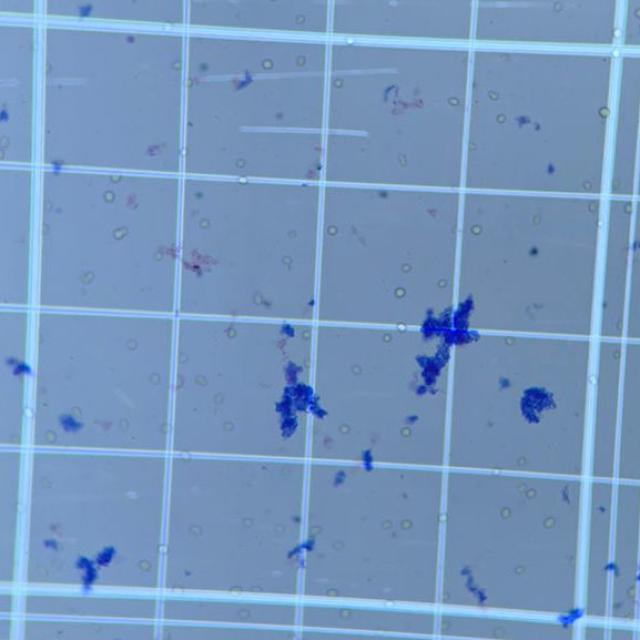Cell: (159, 422, 177, 436), (80, 270, 96, 285), (112, 226, 129, 240), (307, 524, 323, 538), (624, 250, 637, 267), (124, 490, 142, 501), (170, 376, 183, 391), (38, 222, 50, 238), (189, 524, 203, 537), (194, 374, 208, 387), (40, 62, 53, 75), (102, 190, 116, 202), (213, 392, 225, 406), (397, 153, 409, 167), (118, 418, 130, 432), (437, 620, 451, 632), (0, 134, 11, 149), (595, 222, 611, 232), (470, 224, 483, 236), (126, 338, 138, 351), (148, 373, 161, 385), (400, 518, 413, 530), (543, 517, 556, 529), (45, 430, 57, 443), (612, 26, 624, 39), (610, 177, 622, 190), (612, 348, 624, 361), (282, 465, 294, 478), (9, 434, 23, 445), (171, 585, 186, 595), (295, 55, 307, 67), (294, 13, 306, 25), (225, 326, 237, 338), (262, 58, 274, 70), (598, 106, 610, 118), (162, 20, 174, 32), (300, 329, 312, 341), (302, 356, 314, 368), (24, 478, 36, 490), (248, 585, 264, 594), (438, 591, 450, 603), (338, 424, 351, 435), (242, 517, 255, 528), (222, 421, 235, 432), (138, 560, 151, 571), (339, 609, 352, 620), (41, 478, 52, 491), (499, 52, 513, 62), (270, 569, 285, 578), (400, 263, 412, 274), (350, 364, 362, 375), (394, 287, 406, 298), (400, 427, 412, 438), (501, 507, 512, 519), (381, 519, 393, 530), (516, 456, 528, 467), (282, 256, 293, 268), (516, 483, 528, 494), (238, 608, 250, 619), (183, 78, 195, 89), (286, 229, 298, 240), (586, 202, 598, 213), (616, 319, 627, 331), (532, 213, 542, 226), (332, 540, 345, 550), (383, 598, 396, 608), (253, 292, 262, 306), (437, 278, 448, 289), (327, 225, 338, 236), (496, 113, 507, 124), (199, 218, 210, 229), (582, 180, 593, 191), (488, 90, 499, 101), (171, 60, 182, 71), (611, 47, 622, 58), (448, 96, 460, 106), (235, 158, 247, 168), (274, 523, 286, 533), (326, 588, 338, 598), (492, 627, 504, 637), (43, 200, 53, 212), (190, 208, 200, 220), (72, 406, 82, 418), (14, 502, 24, 514), (333, 78, 344, 88), (526, 488, 536, 499), (623, 203, 633, 214), (553, 2, 564, 12), (504, 337, 516, 346), (514, 566, 526, 575), (178, 451, 190, 460), (109, 175, 122, 183), (382, 333, 392, 343), (438, 513, 448, 523), (24, 408, 34, 418), (588, 376, 598, 386), (154, 252, 164, 262), (467, 141, 477, 151), (178, 354, 188, 364), (346, 36, 355, 47), (0, 148, 7, 162), (230, 586, 242, 594), (633, 7, 640, 20), (397, 322, 406, 332), (627, 587, 635, 598), (239, 176, 248, 185), (158, 545, 167, 554), (160, 595, 168, 604), (180, 148, 187, 157)
